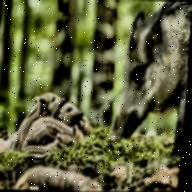boar: (113, 1, 192, 151), (17, 79, 74, 139), (45, 98, 96, 142)
